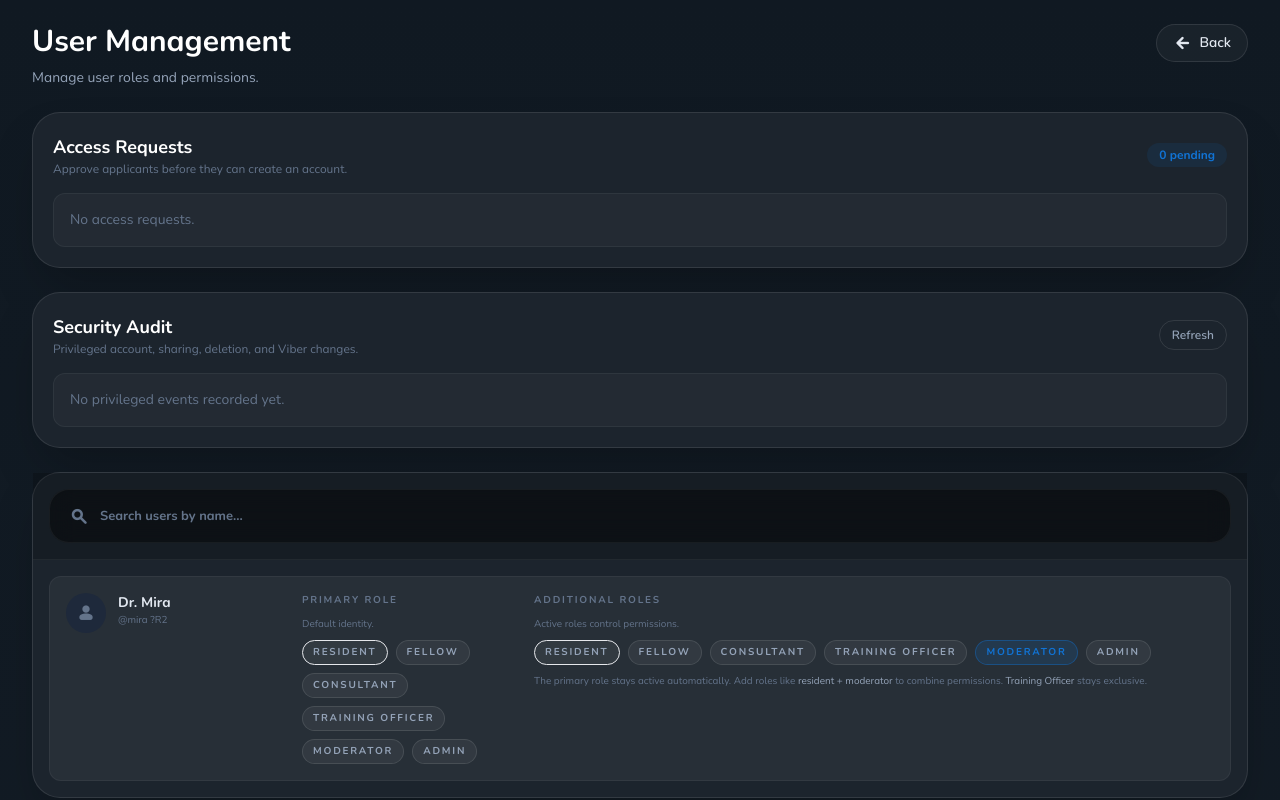
Scenario: AdminUserManagement › updates roles and shows a success notice when toggling an additional role
The width and height of the screenshot is (1280, 800).
Expected: the text "Dr. Mira" is shown, [118, 593, 171, 612]
Click the 1st button "admin".
click(1118, 652)  # box [1086, 640, 1151, 665]
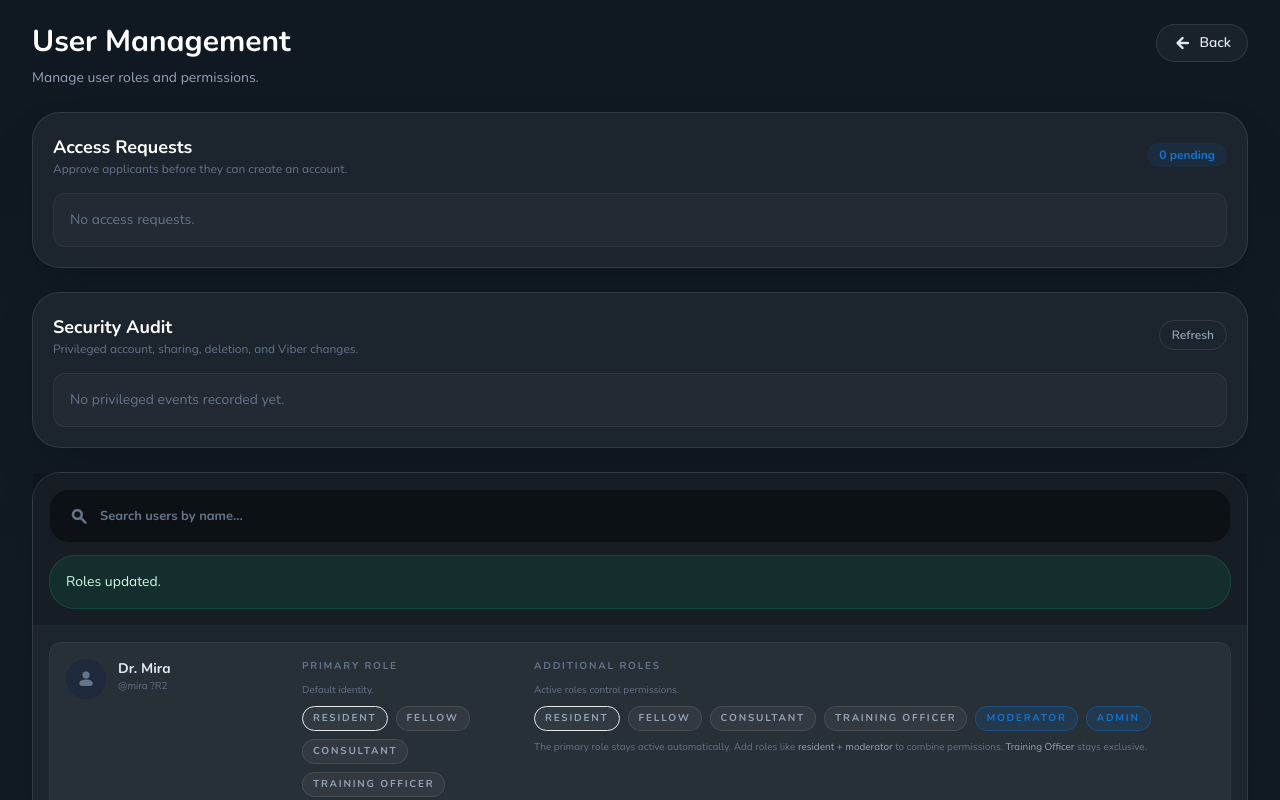
Expected: the text "Roles updated." is shown, [49, 555, 1231, 609]
